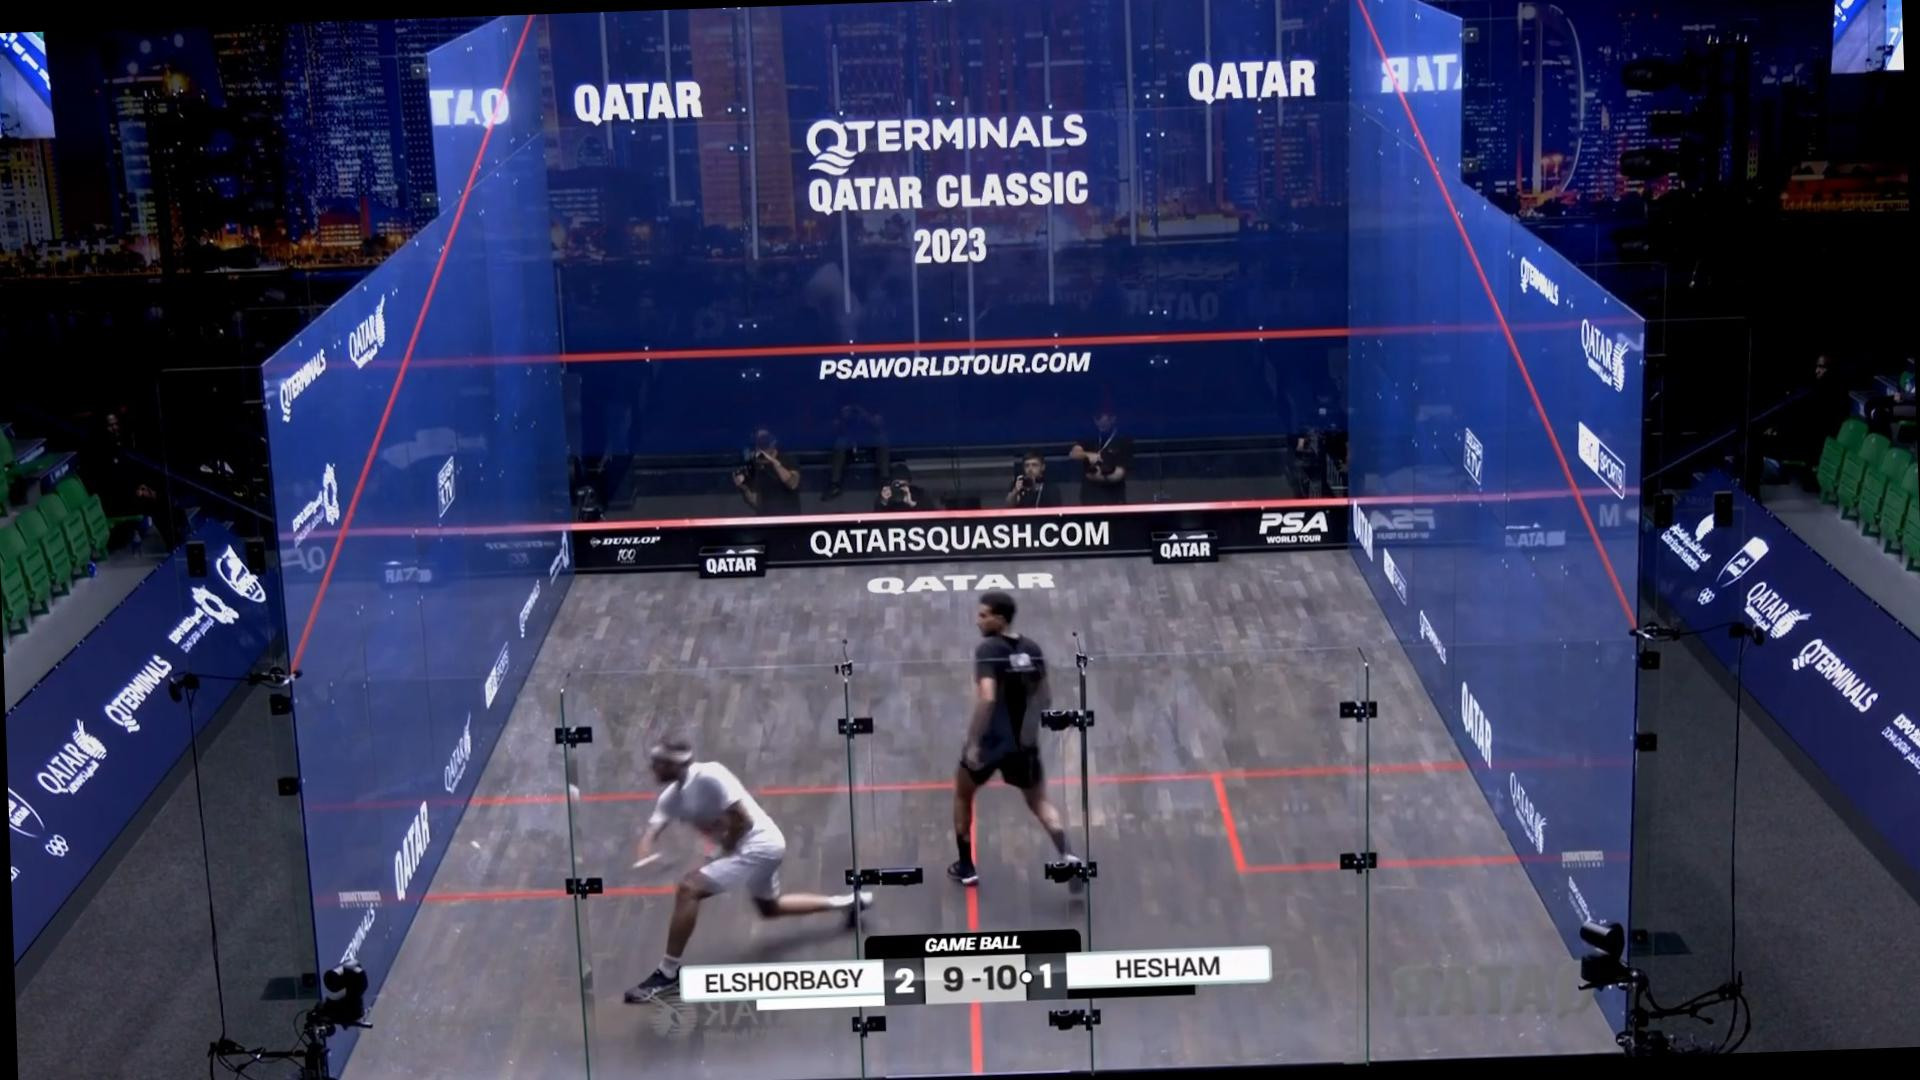Squash-Ball: (463, 827, 487, 861)
